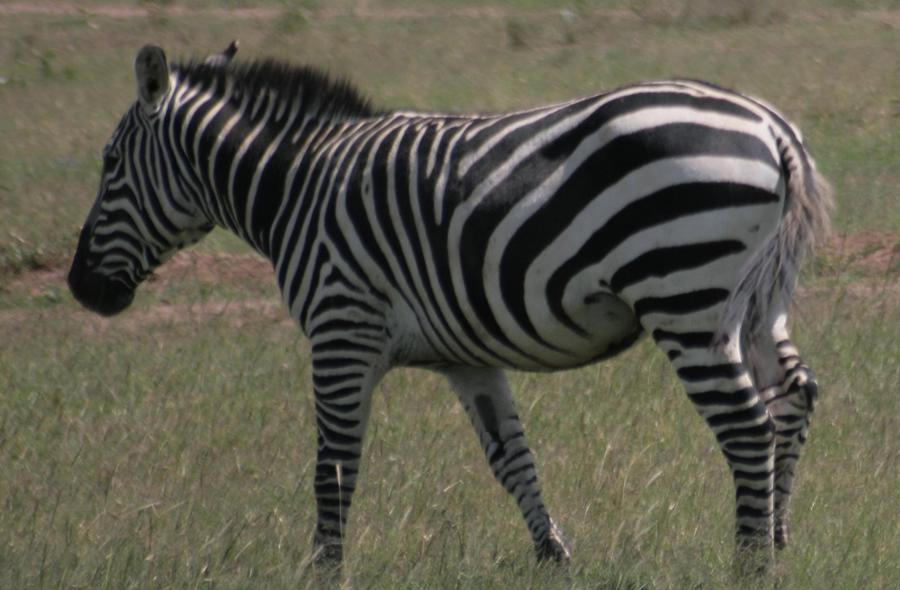zebra_plains: (273, 96, 766, 376)
